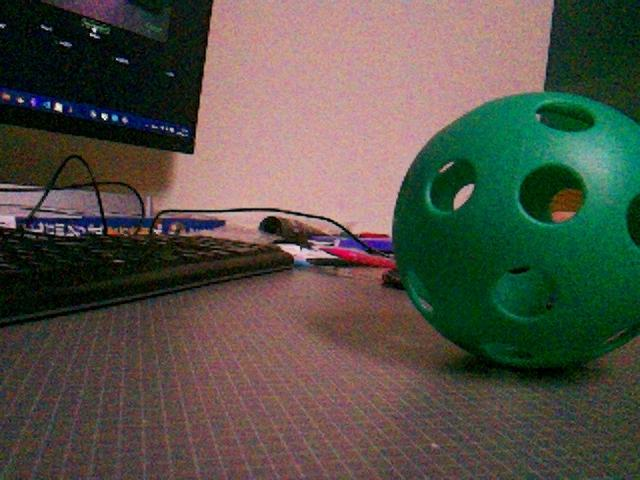Green: (391, 95, 639, 367)
